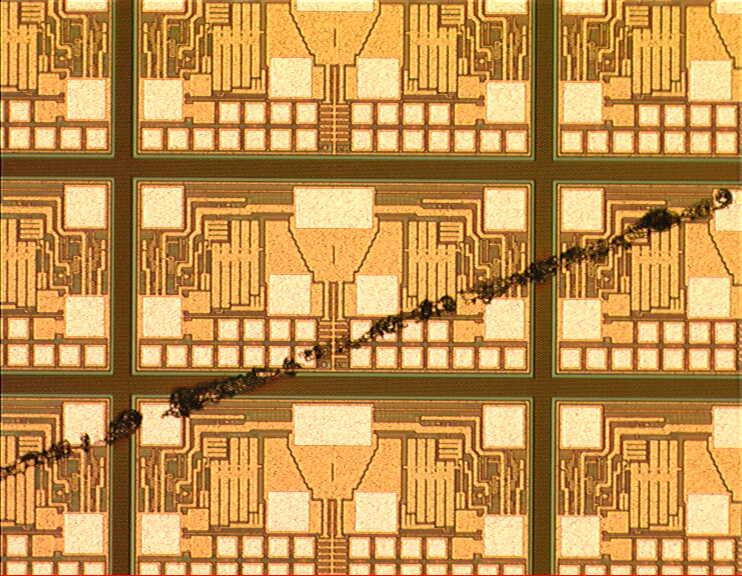SCRATCH: (1, 184, 739, 488)
